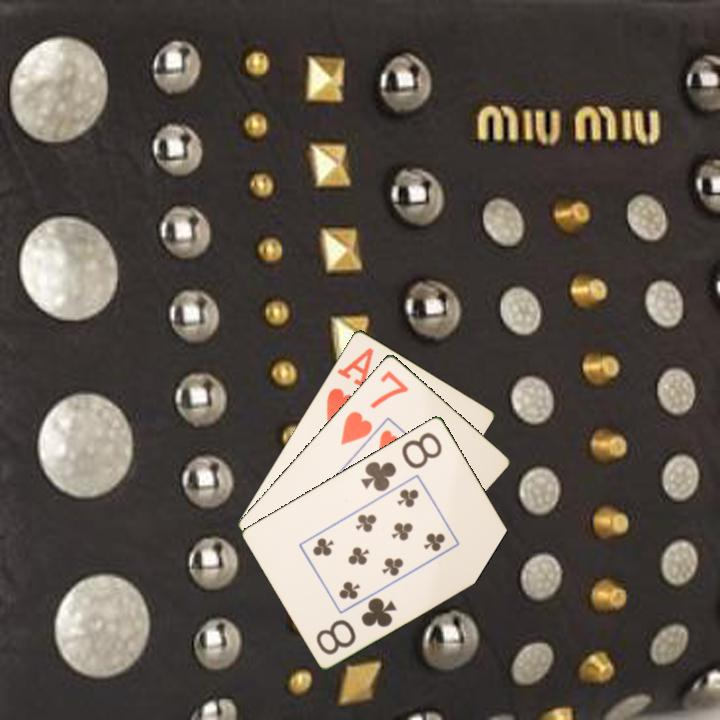7h: (337, 366, 412, 448)
8c: (357, 428, 445, 494), (312, 593, 400, 658)
Ah: (323, 344, 377, 426)
